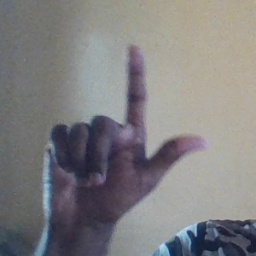L: (38, 43, 212, 219)
